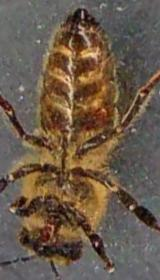varroa_mite: (80, 106, 117, 132)
